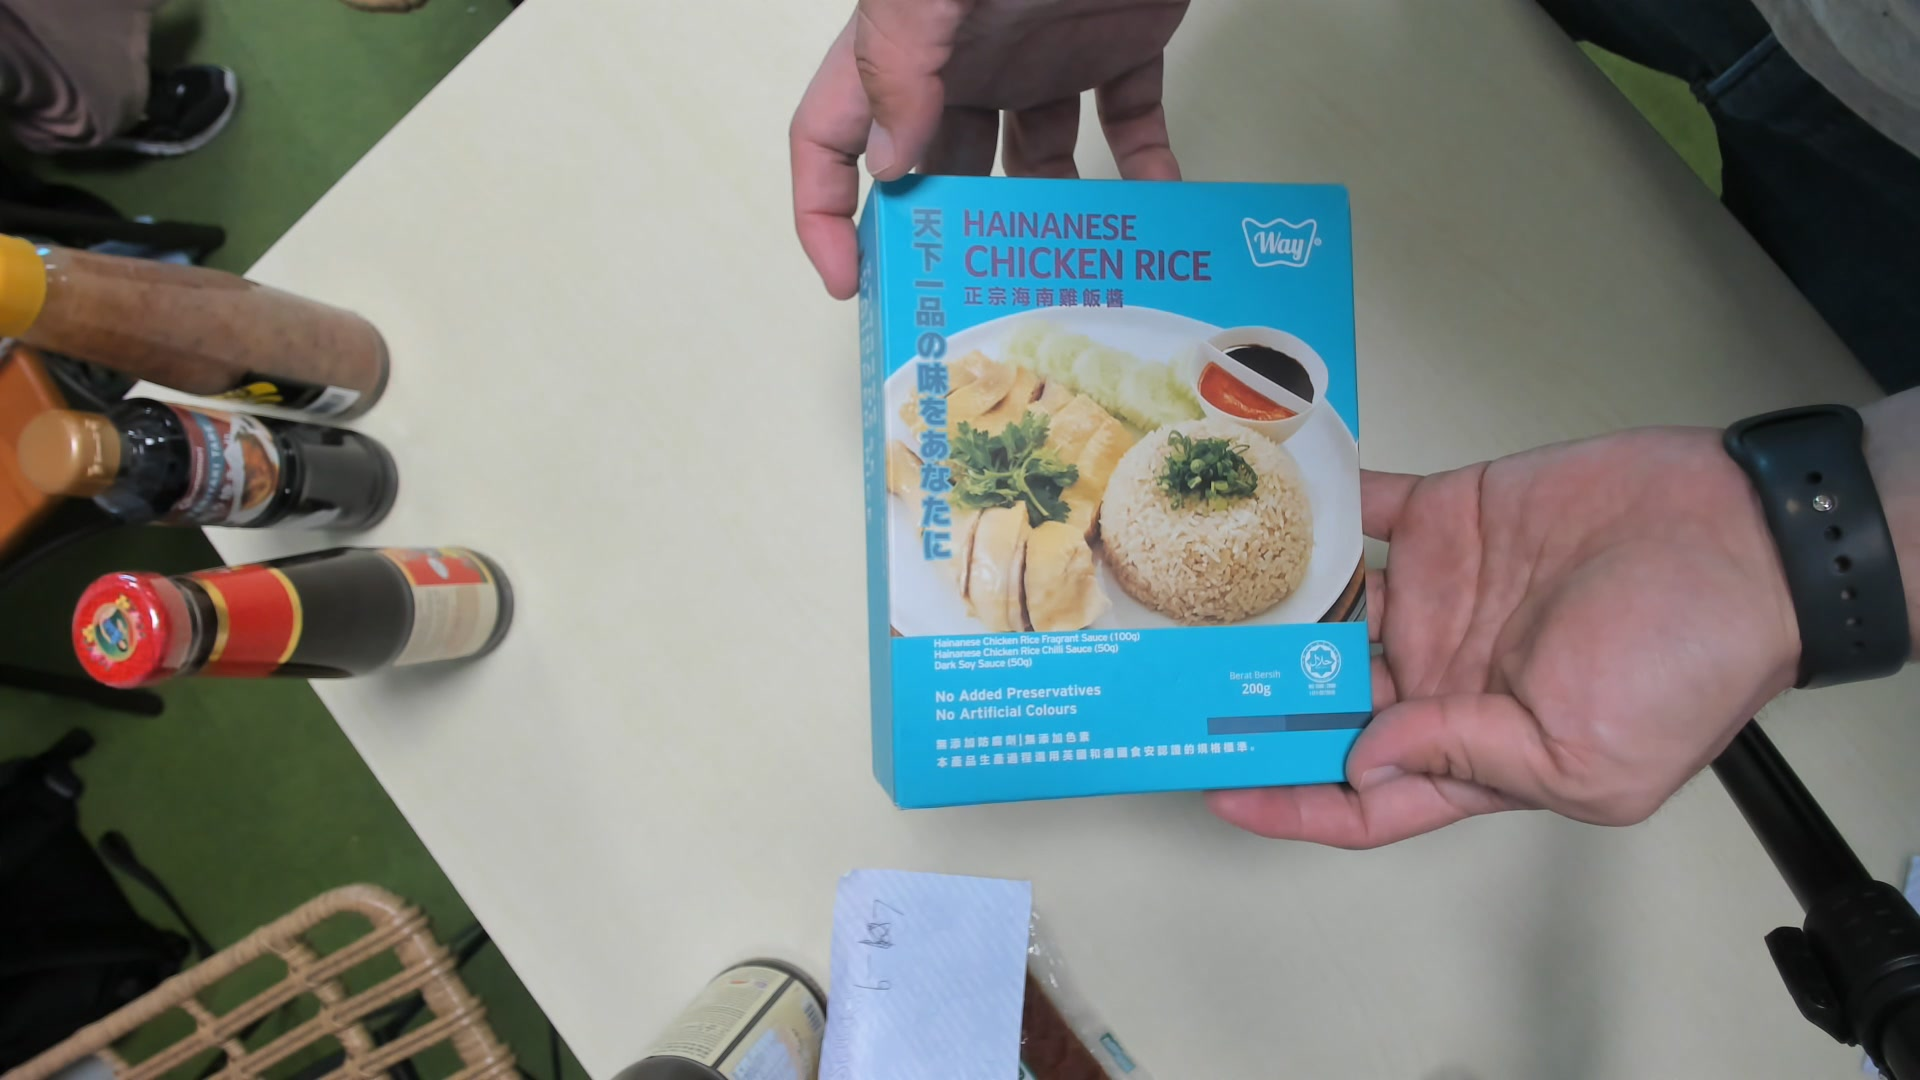OtherSauceDressingSoupbasePaste_200-299g_Halal_NonHealthy: (855, 169, 1375, 808)
